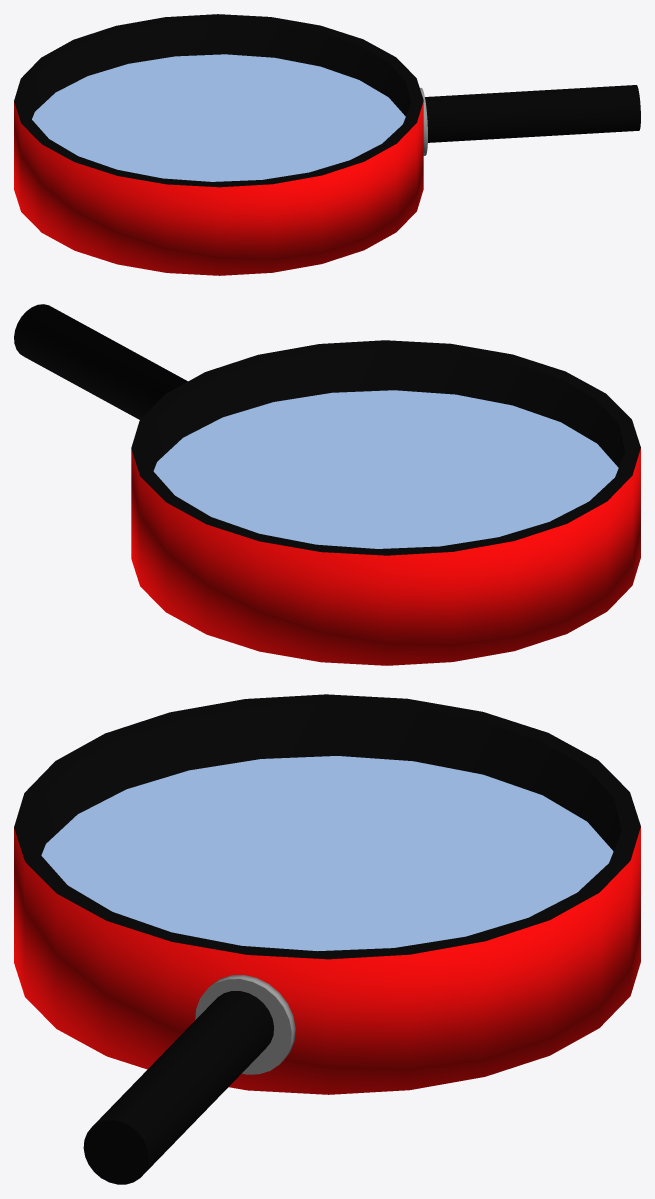
Rendered from saucepan.dae.
3 renders of one model, top to bottom at view 1: azimuth 30°, elevation 25°; view 2: azimuth 150°, elevation 25°; view 3: azimuth 270°, elevation 25°, orthographic. The views are drawn at different scales.
Parts seen in each view (by area): view 1: Model; view 2: Model; view 3: Model.
Boxes of the visible parts, box(x1,y1,x2,y2) form: Model: box(14, 14, 640, 275); Model: box(14, 304, 640, 665); Model: box(14, 694, 640, 1184).
Size of the model in its own units: 0.4899 by 0.325 by 0.0775.
